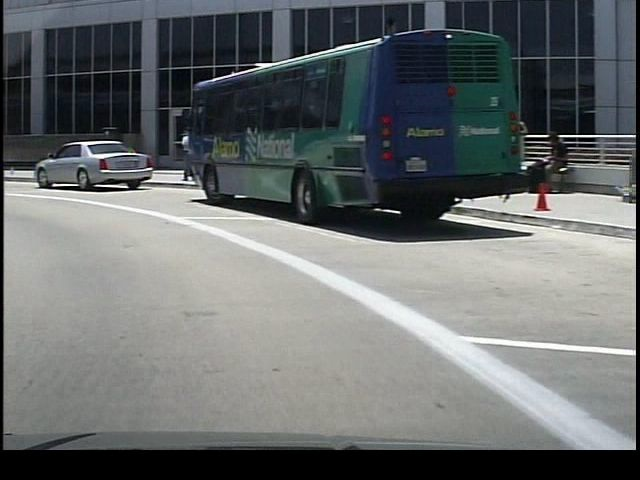person: (522, 127, 566, 195)
